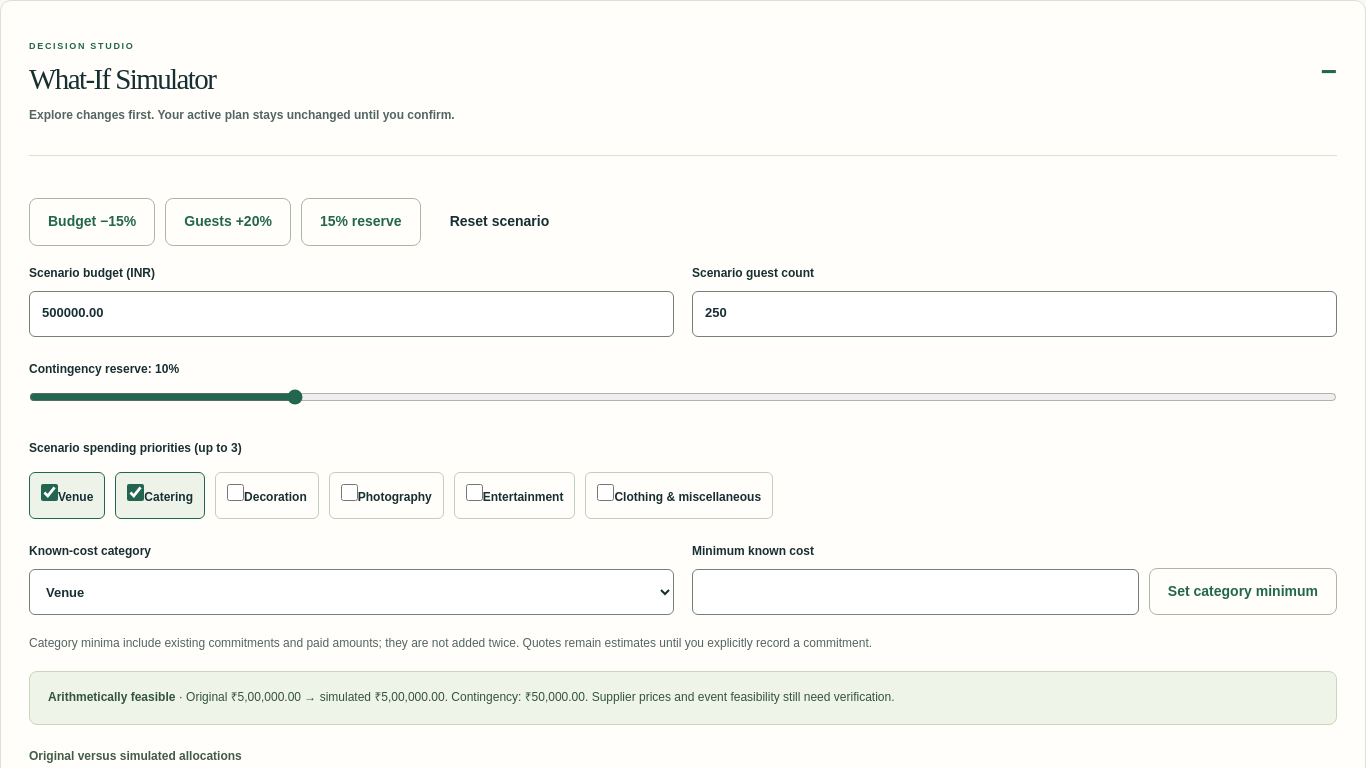
it: reports and focuses invalid known cost 0 without mutating the plan
Step 1. Type "0" into the field labelled "Minimum known cost" → (915, 592), box [692,569,1139,615]
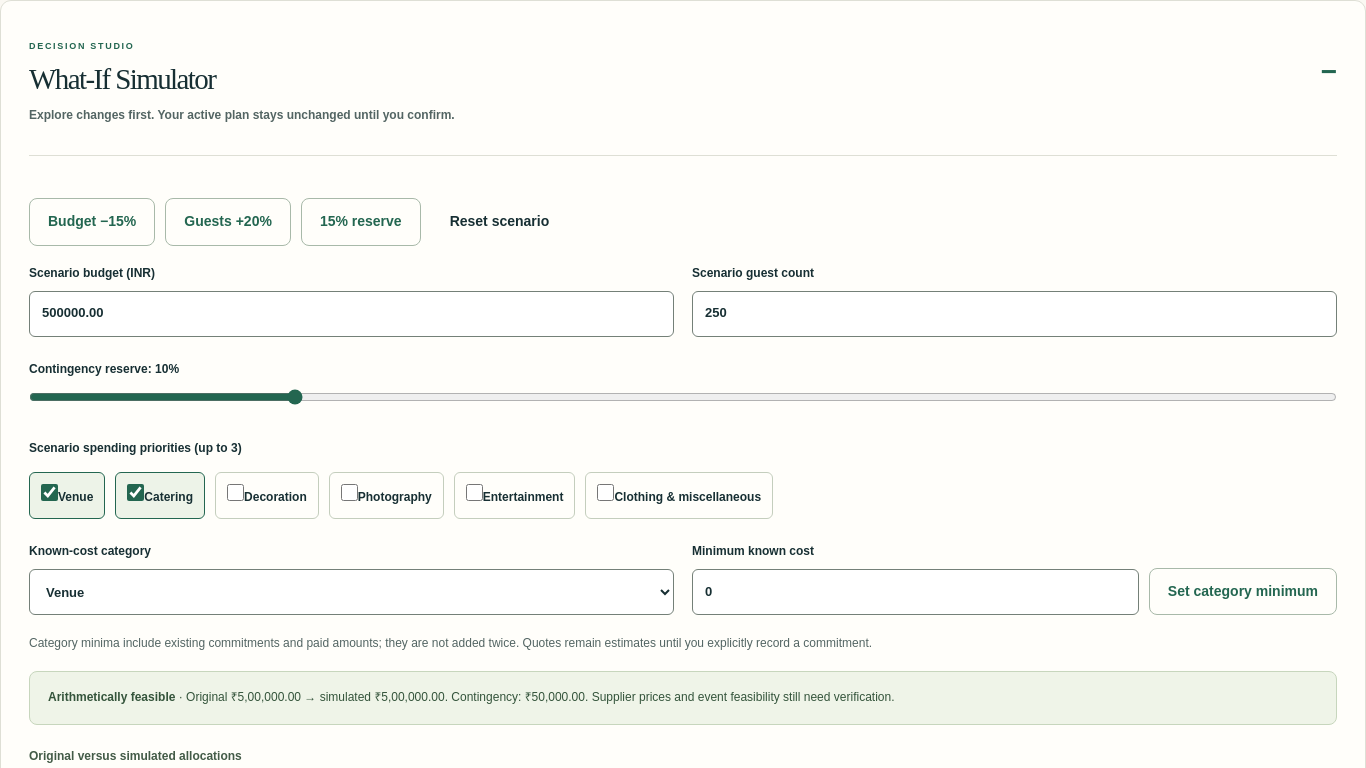
Step 2. Click the button "Set category minimum" → (1243, 591), box [1149,568,1337,615]
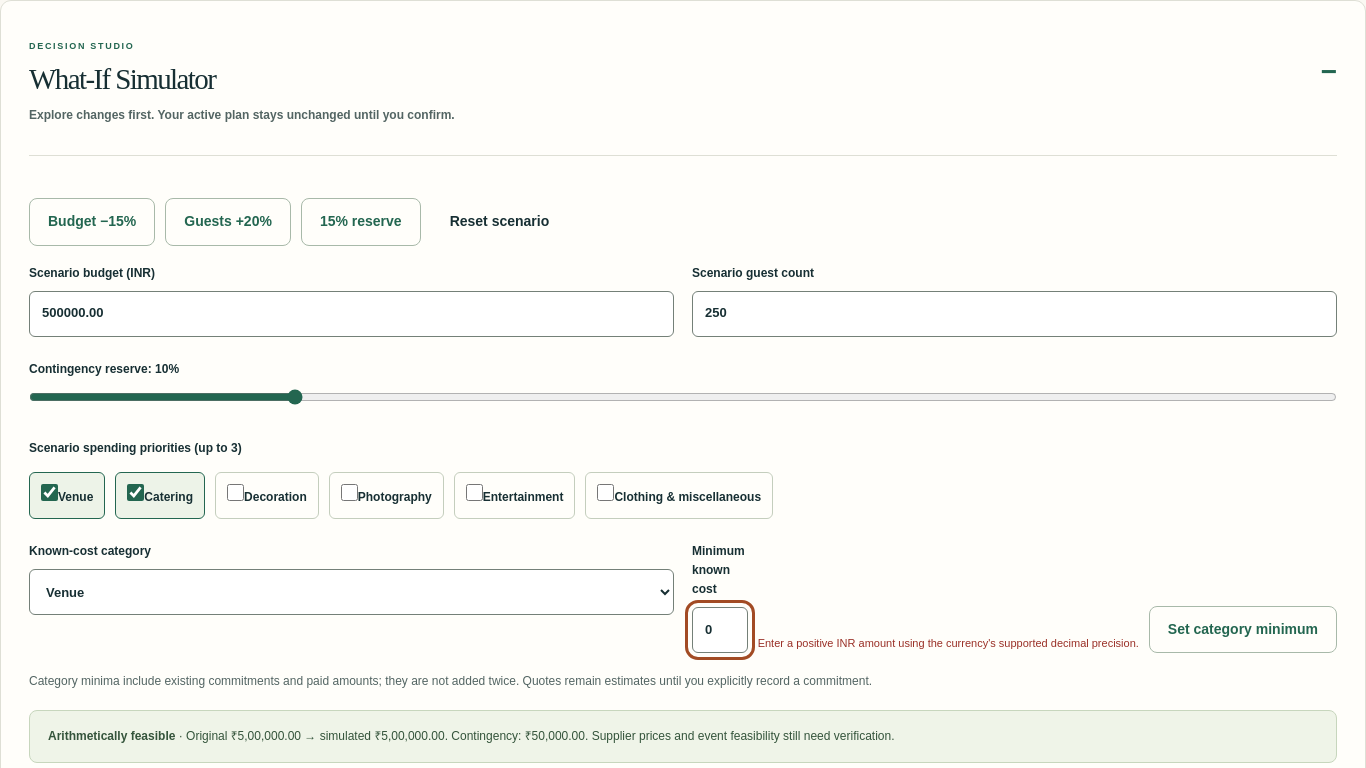
Check: the message "Enter a positive INR amount using the currency's supported decimal precision." is shown, box [758,634,1139,653]
